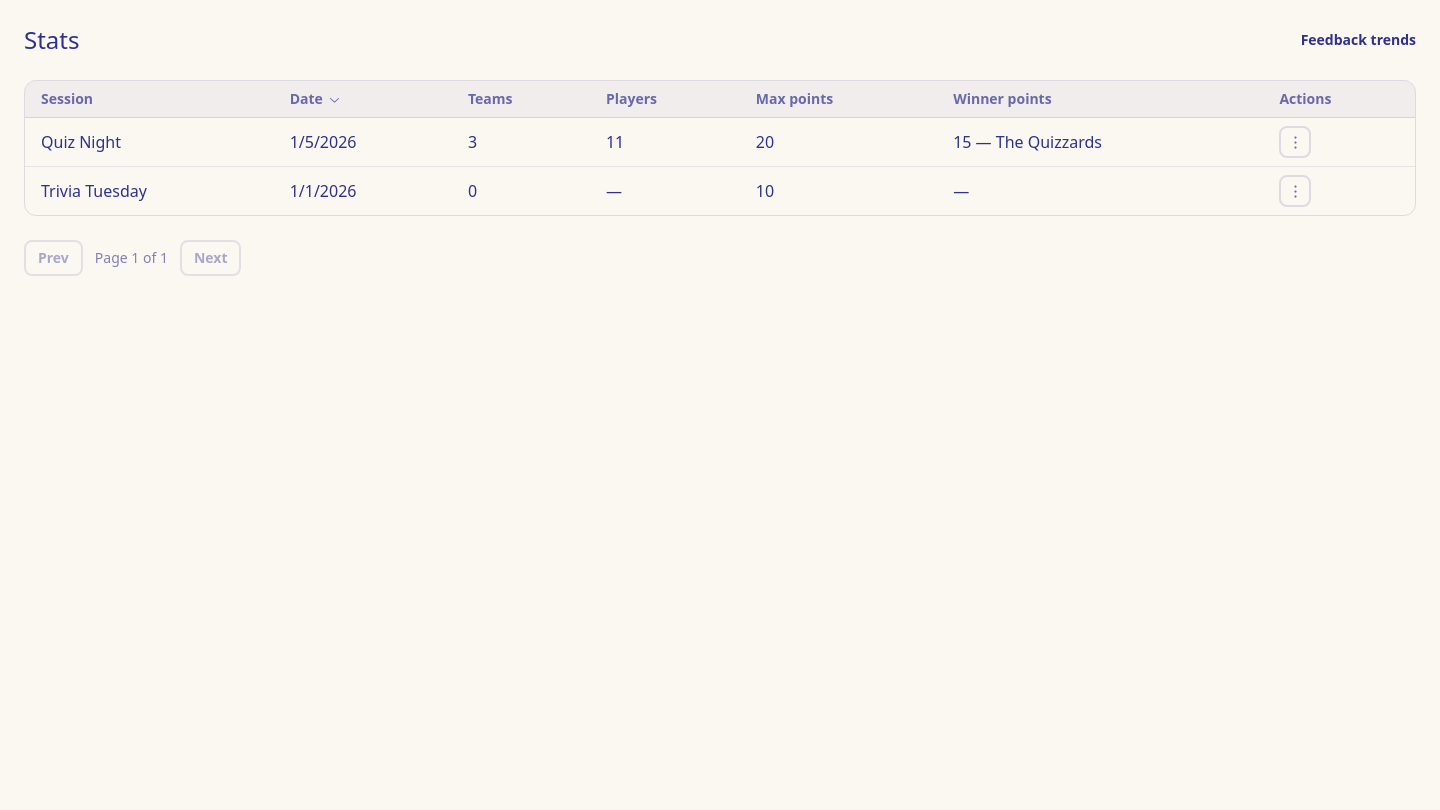
Test case: PlayedSessionsPanel › delete session › shows a success toast naming the session after it is deleted
This screenshot has width=1440, height=810.
Expected: the link "Quiz Night" is shown, [41,131,121,153]
Click the button named "Actions for Quiz Night": [1295, 142] box [1279,126,1311,158]
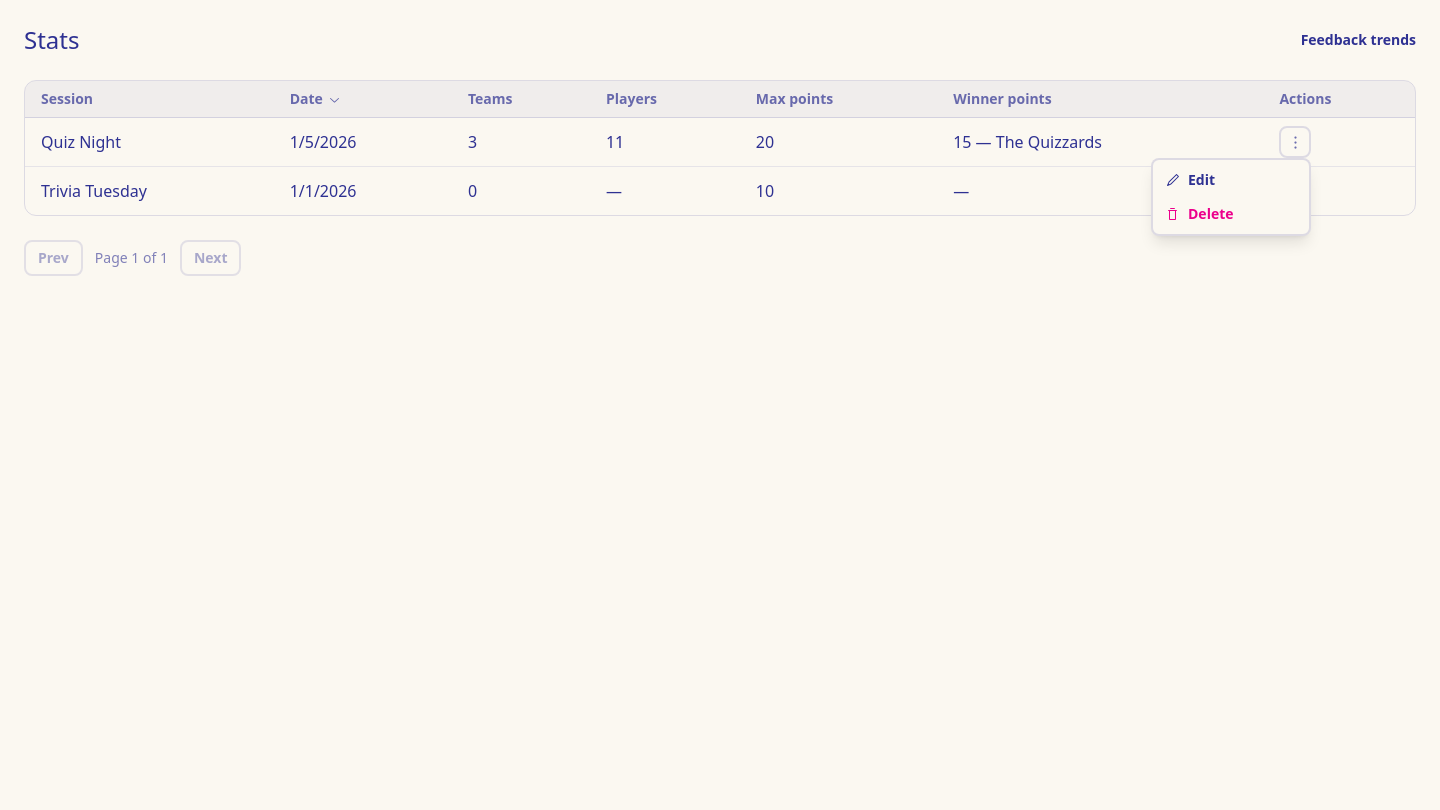
Click the menu item "Delete": [1199, 214] box [1165,204,1234,223]
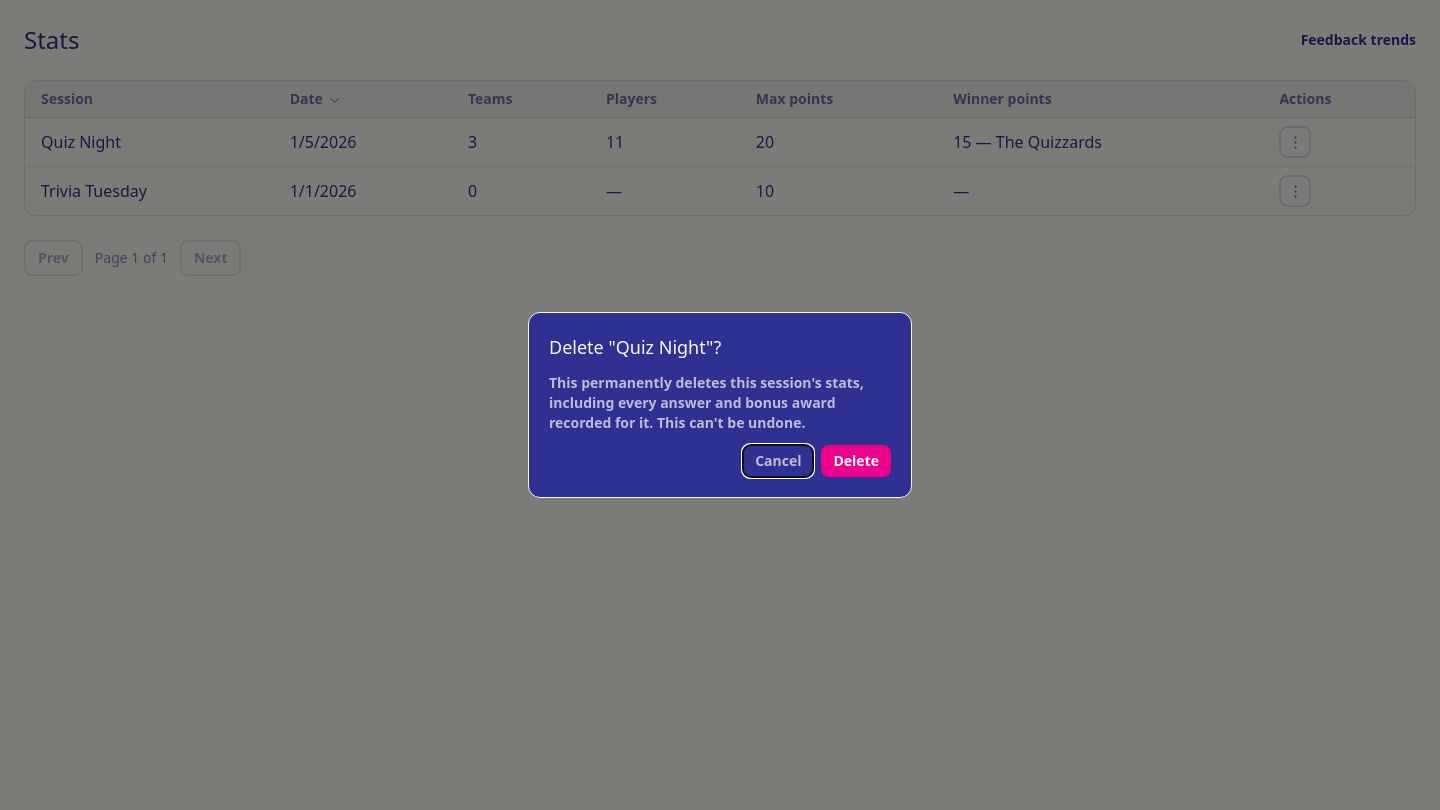
Click the button "Delete": [856, 461] box [822,445,891,477]
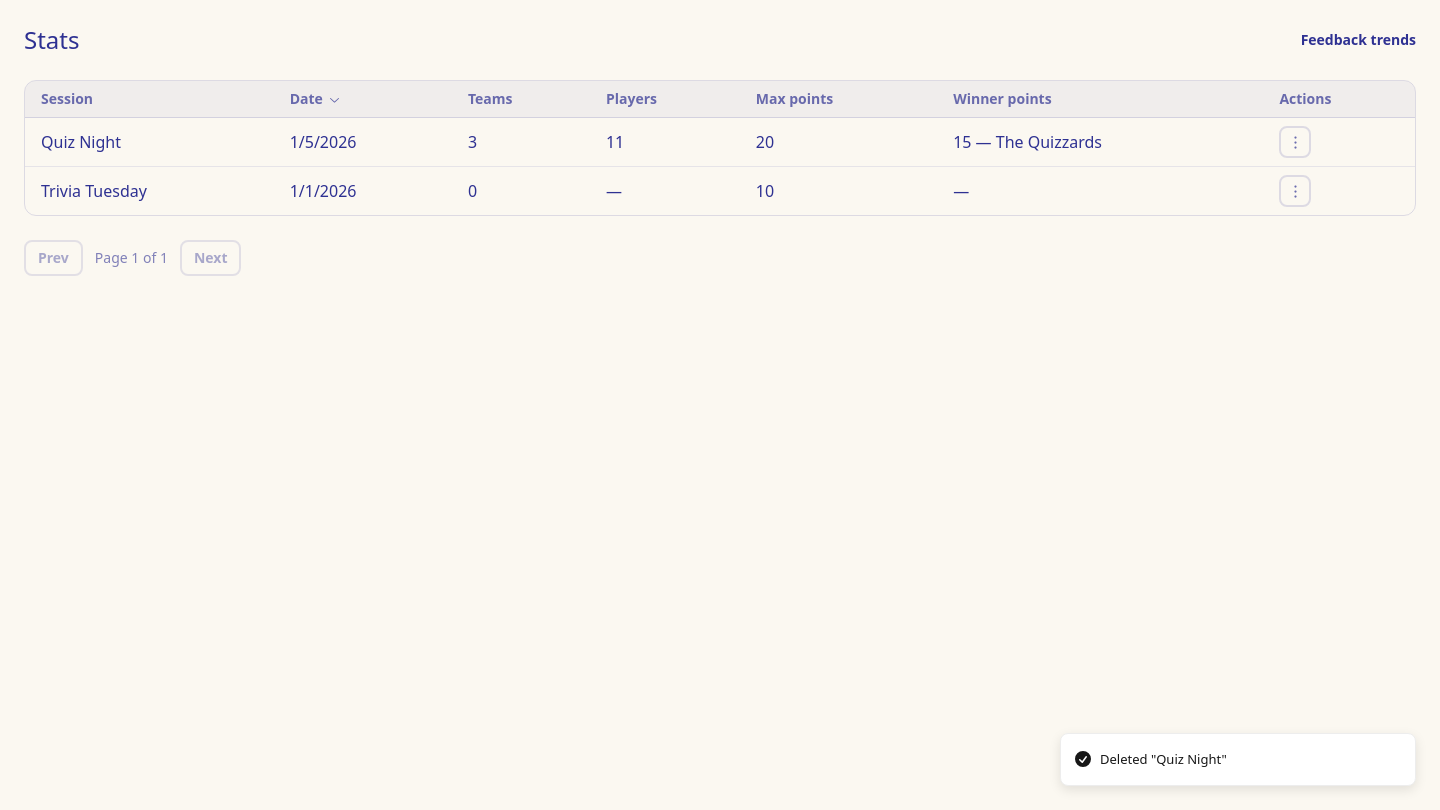
Expected: the text "Deleted \"Quiz Night\"" is shown, [1100,750,1227,769]
